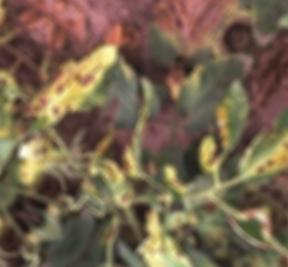Tomato Early blight leaf: (25, 30, 119, 137), (178, 79, 274, 182), (105, 195, 232, 267), (223, 83, 288, 203), (94, 88, 180, 178)
